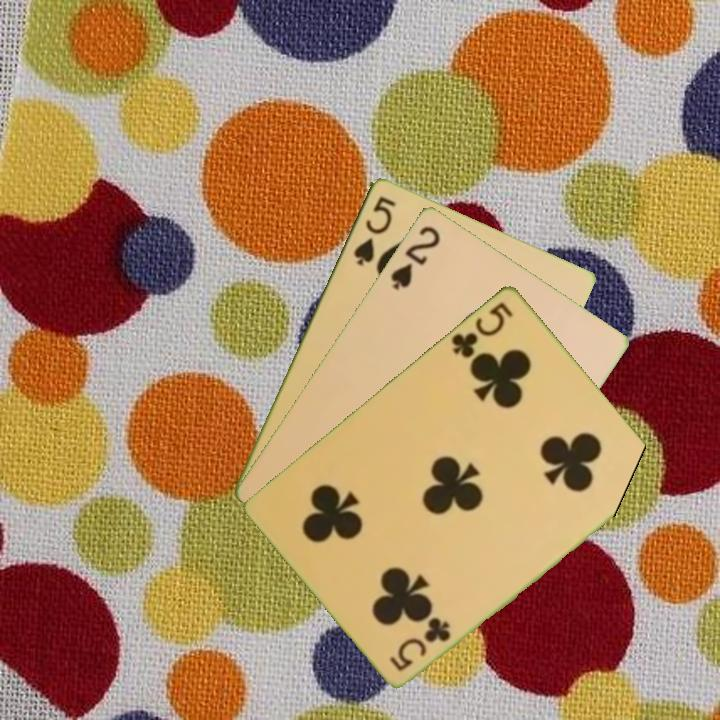2s: (386, 221, 443, 293)
5c: (447, 298, 516, 361), (386, 613, 454, 674)
5s: (349, 191, 399, 268)
